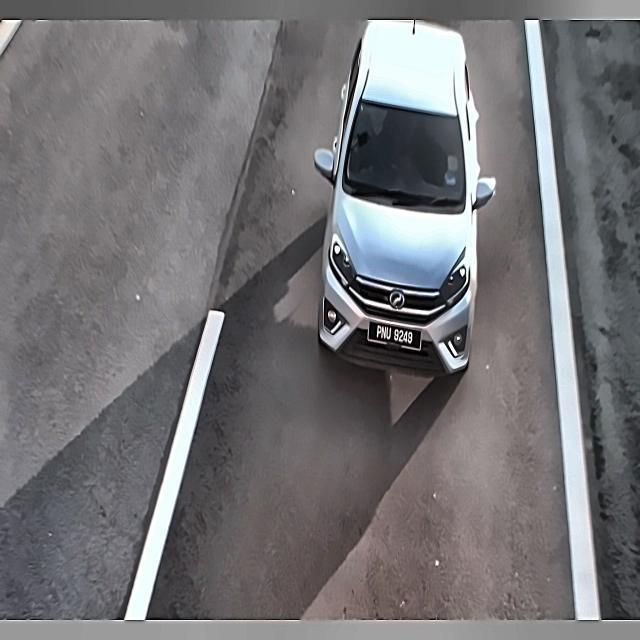car: (367, 315, 426, 355)
